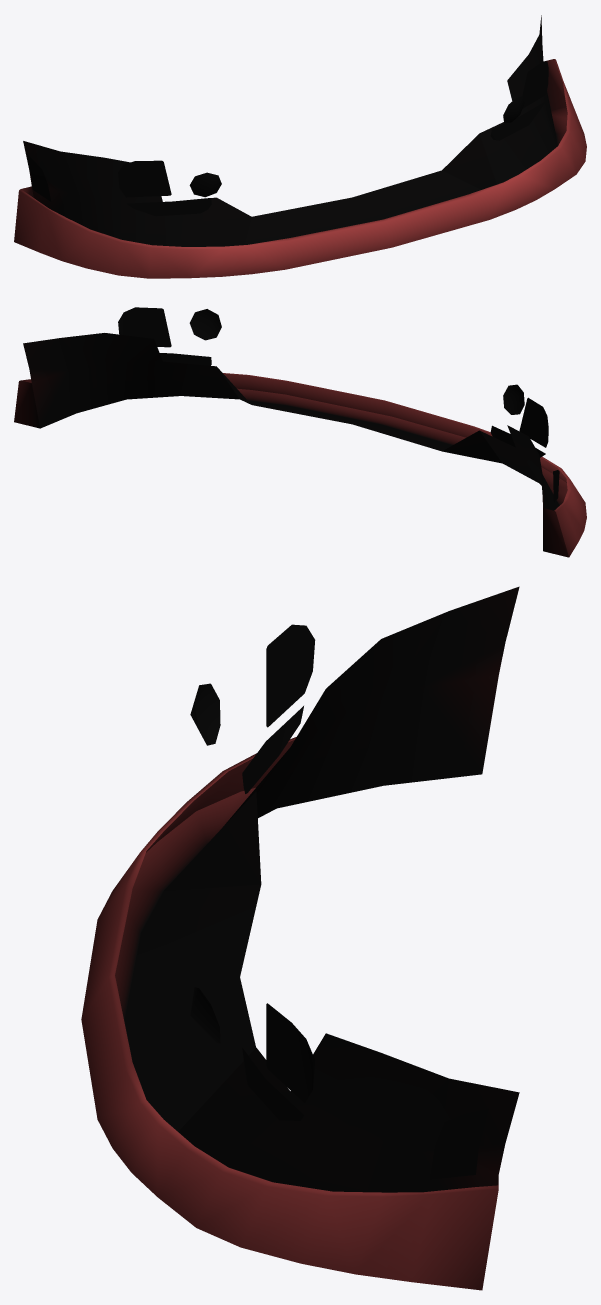
File: Supra_FrontBar_03_Trim.fbx
The picture shows the model from 3 angles, top to bottom: view 1: azimuth 30°, elevation 25°; view 2: azimuth 150°, elevation 25°; view 3: azimuth 270°, elevation 25°; orthographic projection. The views are drawn at different scales.
Parts seen in each view (by area): view 1: Supra_FrontBar_03_Trim; view 2: Supra_FrontBar_03_Trim; view 3: Supra_FrontBar_03_Trim.
Part boxes in pixels (<box>): Supra_FrontBar_03_Trim: <box>14,15,586,278</box>; Supra_FrontBar_03_Trim: <box>14,307,586,557</box>; Supra_FrontBar_03_Trim: <box>81,586,519,1290</box>.
Bounding box in the file's own units: 177 × 29.92 × 60.66.
